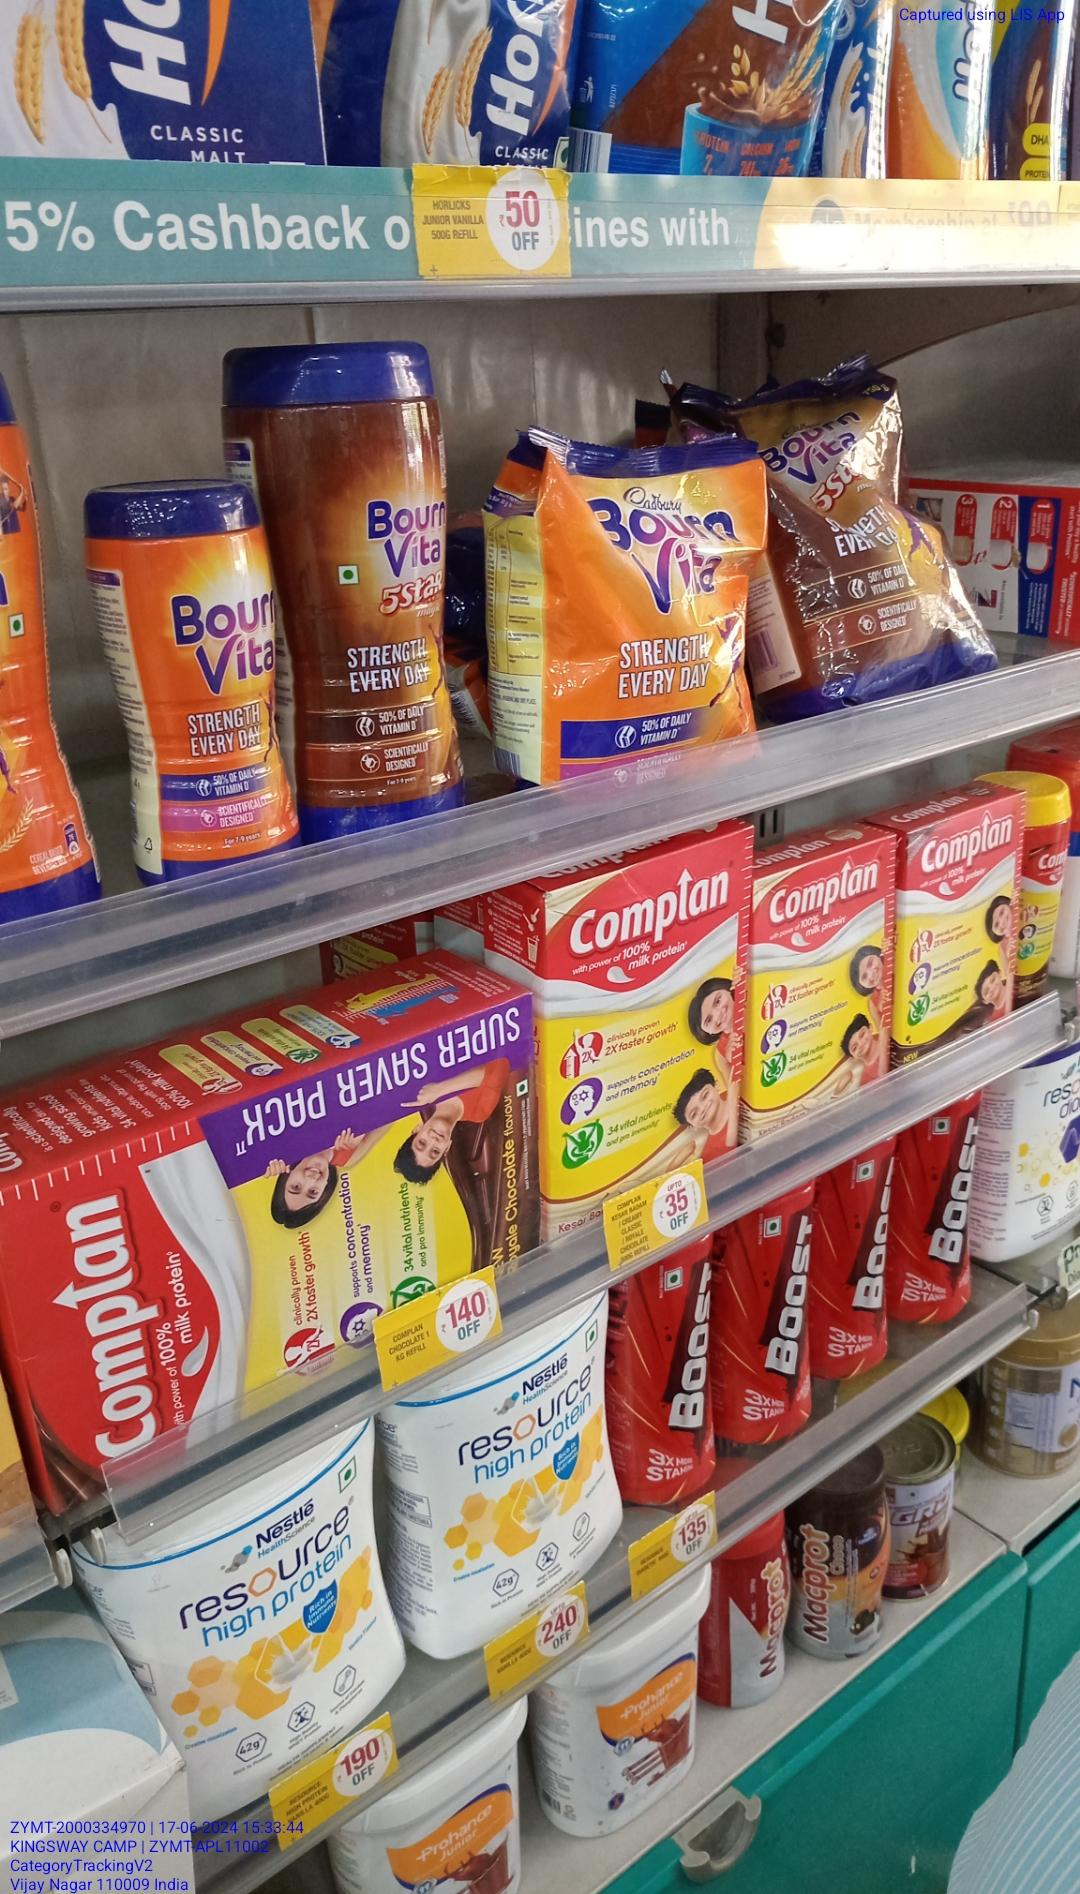BOURN_VITA_500_G_JAR: (129, 476, 289, 873)
BOURN_VITA_500_G_POUCH: (535, 438, 751, 760)
BOURN_VITA_FIVE_STAR_MAGIC_750_G_POUCH: (756, 369, 972, 708)
COMPLAN_KESAR_BADAM_200_GMS_PACK: (755, 848, 893, 1117), (899, 805, 1018, 1042)
COMPLAN_KESAR_BADAM_500_GMS_PACK: (541, 860, 753, 1210)
